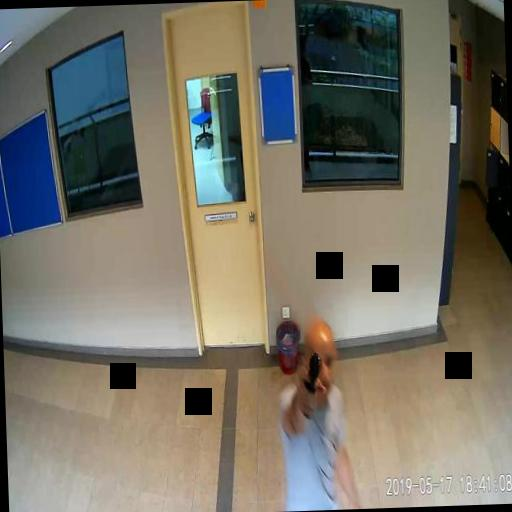Handgun: (299, 350, 321, 396)
